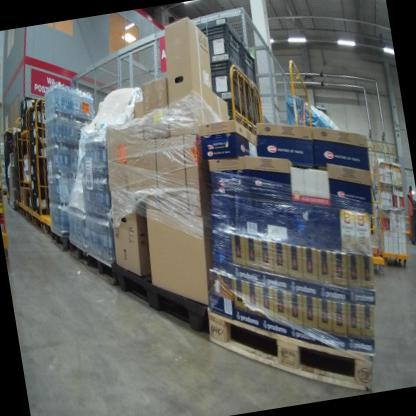pallet: (203, 280, 382, 415), (110, 244, 220, 348), (67, 229, 127, 291), (47, 223, 77, 259)
pallet_truck: (399, 184, 416, 248)
